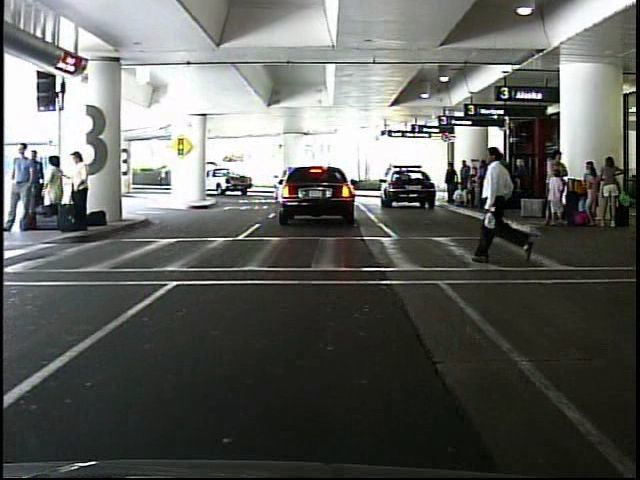person: (474, 137, 535, 273), (9, 141, 42, 237), (43, 151, 70, 228), (73, 147, 96, 233), (442, 161, 459, 205), (155, 162, 169, 190)
